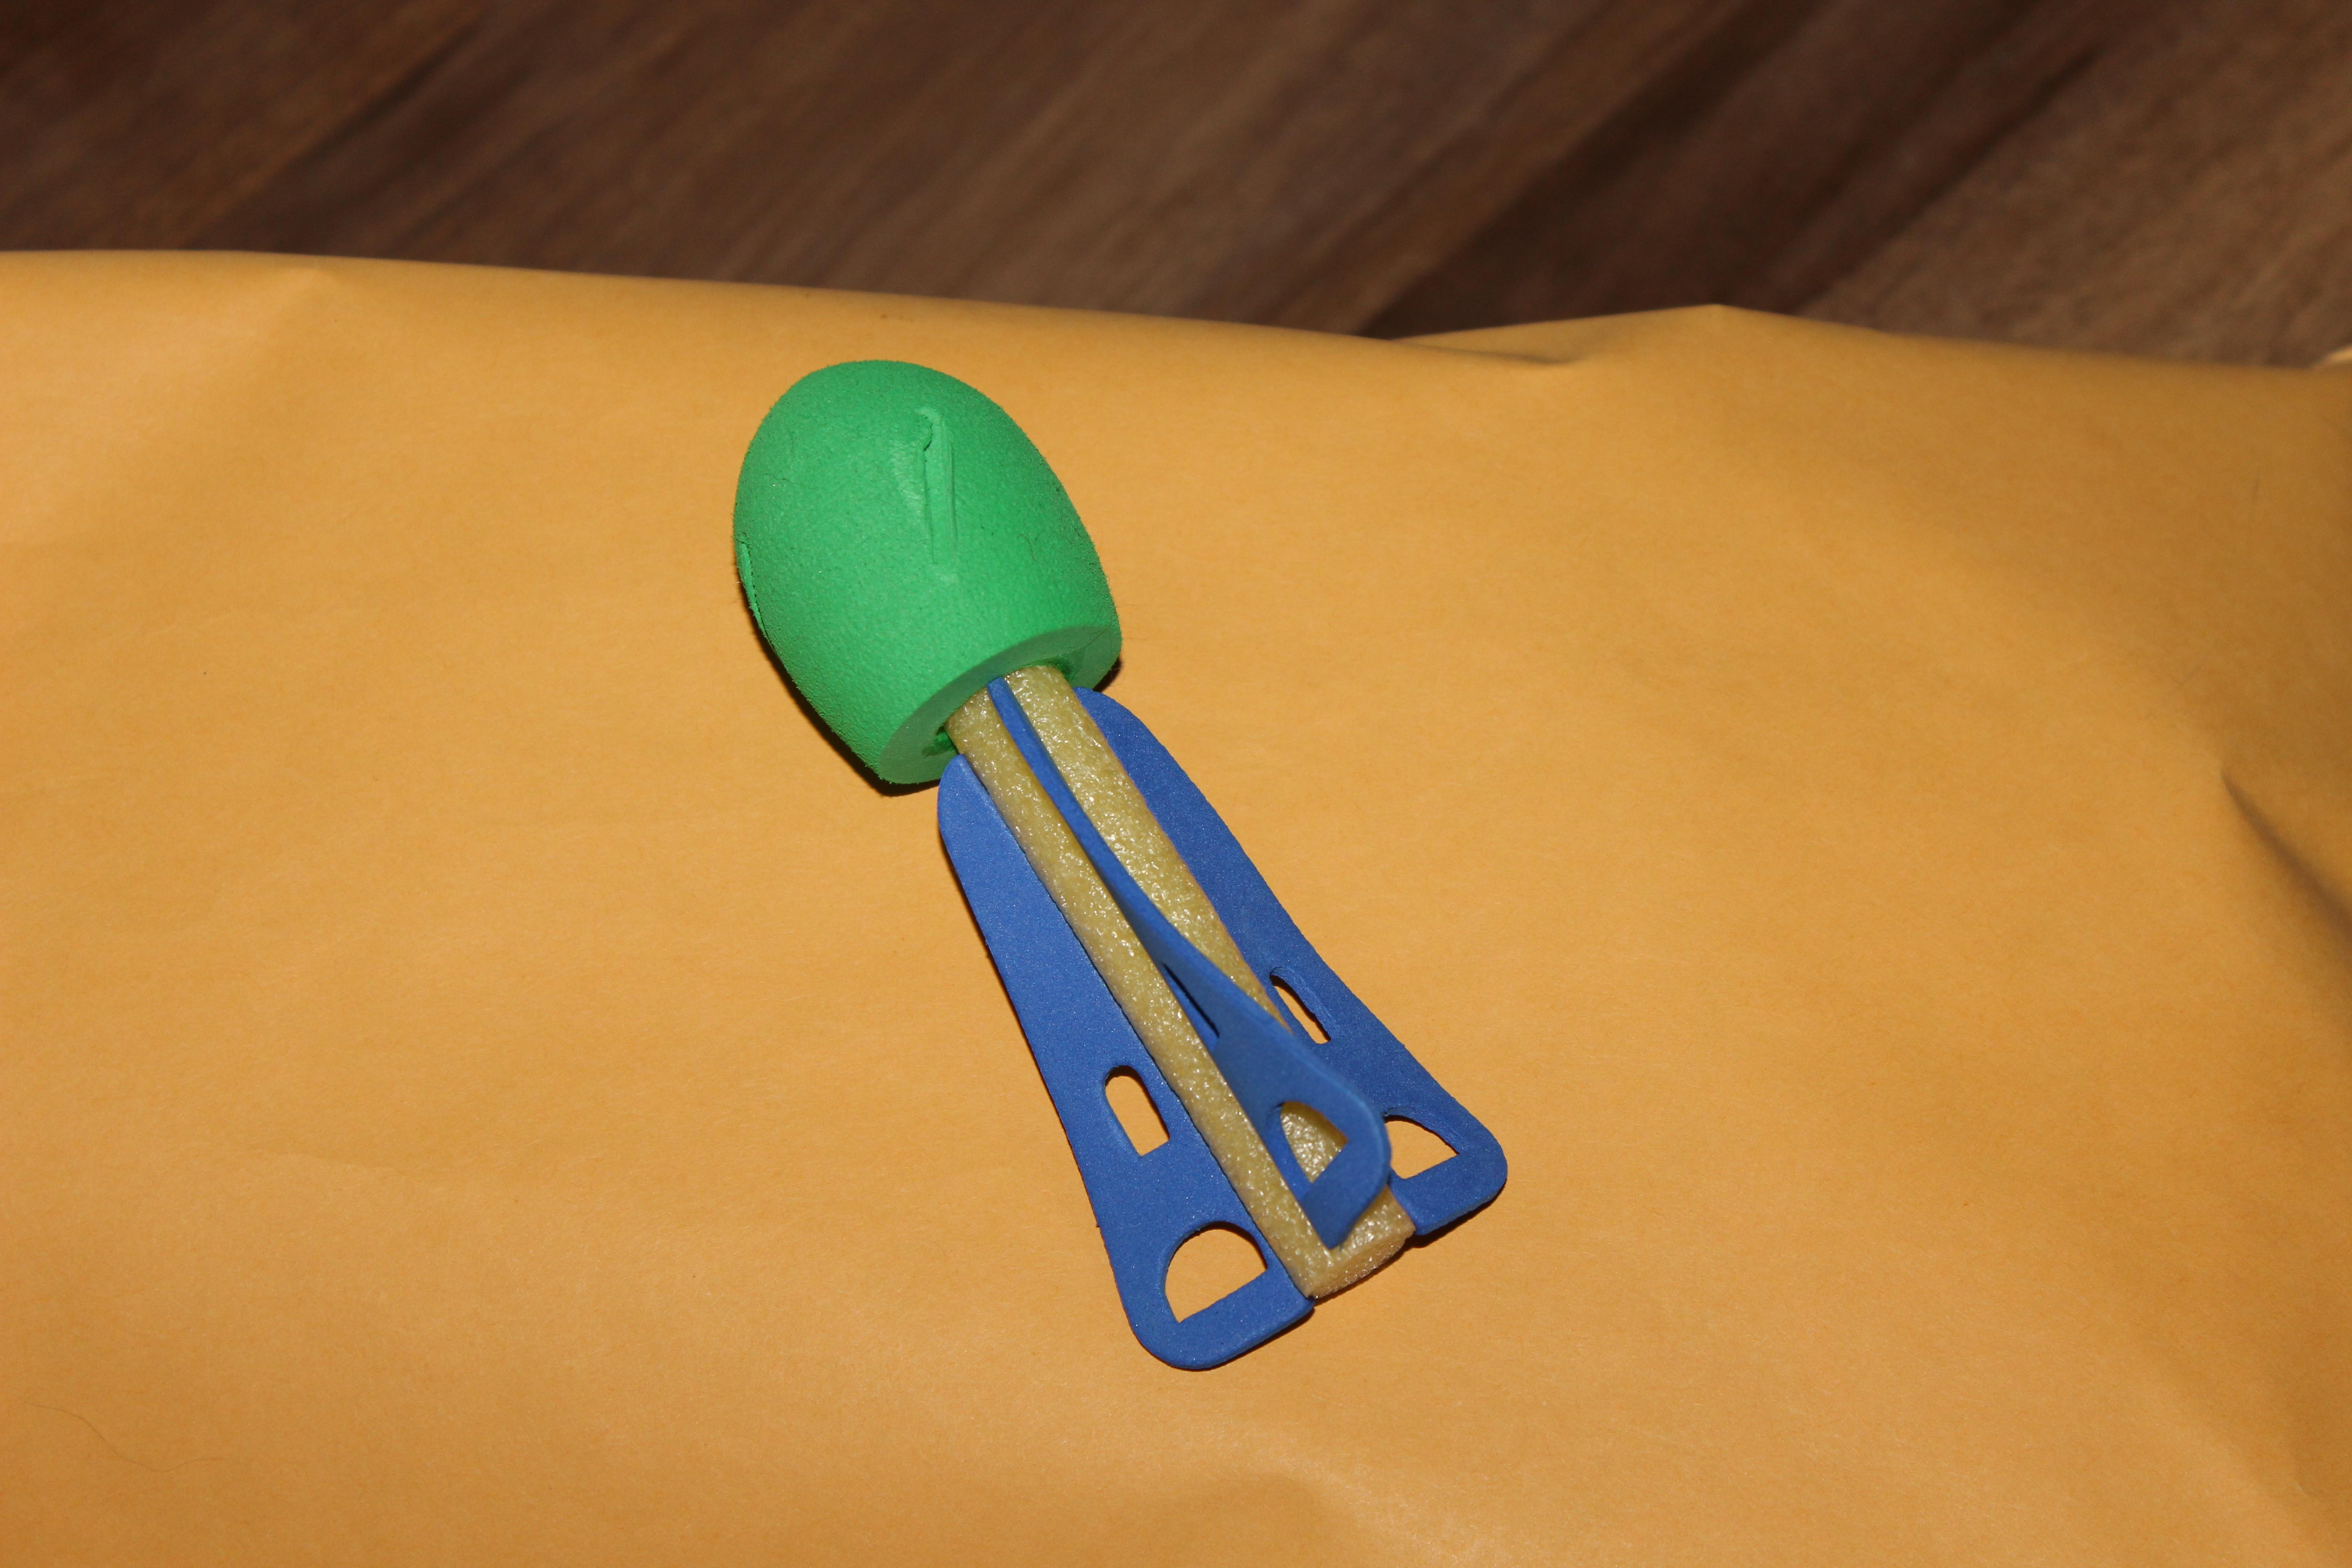foamDart: (693, 317, 1528, 1400)
